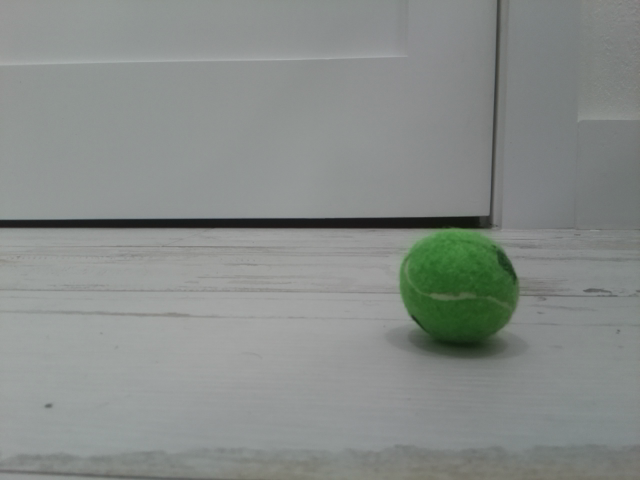green-ball: (398, 227, 520, 349)
